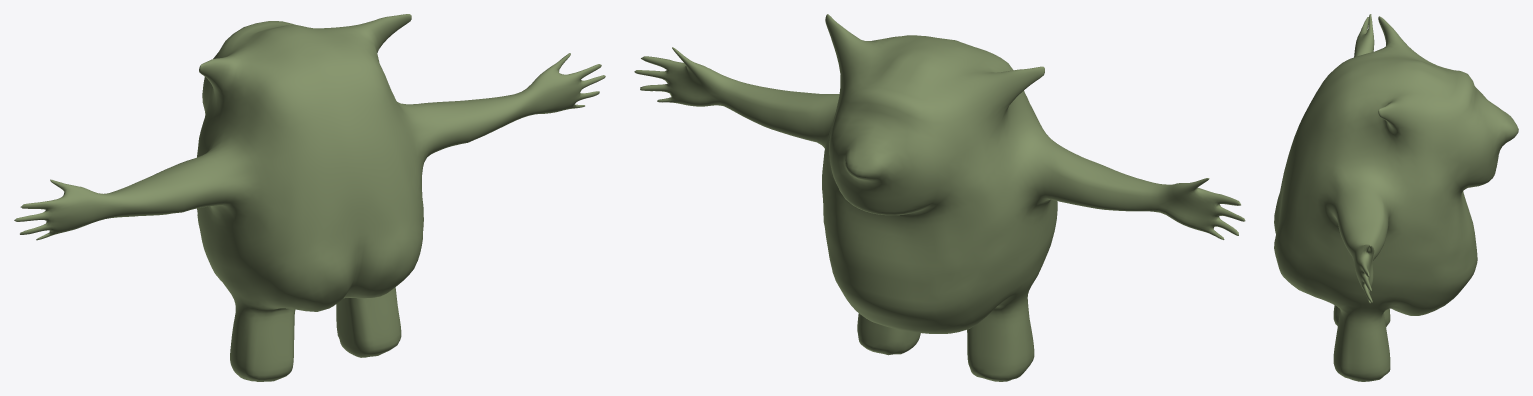
Rendered from elgoblin-03-hipoly.fbx.
The picture shows the model from 3 angles, left to right: view 1: azimuth 30°, elevation 25°; view 2: azimuth 150°, elevation 25°; view 3: azimuth 270°, elevation 25°; orthographic projection. The views are drawn at different scales.
Parts seen in each view (by area): view 1: Retopo_goblino-body-04; view 2: Retopo_goblino-body-04; view 3: Retopo_goblino-body-04.
Part boxes in pixels (x1,y1,x2,y2): Retopo_goblino-body-04: (14,14,605,381); Retopo_goblino-body-04: (634,14,1245,381); Retopo_goblino-body-04: (1274,14,1518,381).
Size of the model in its own units: 1336 by 684 by 524.
